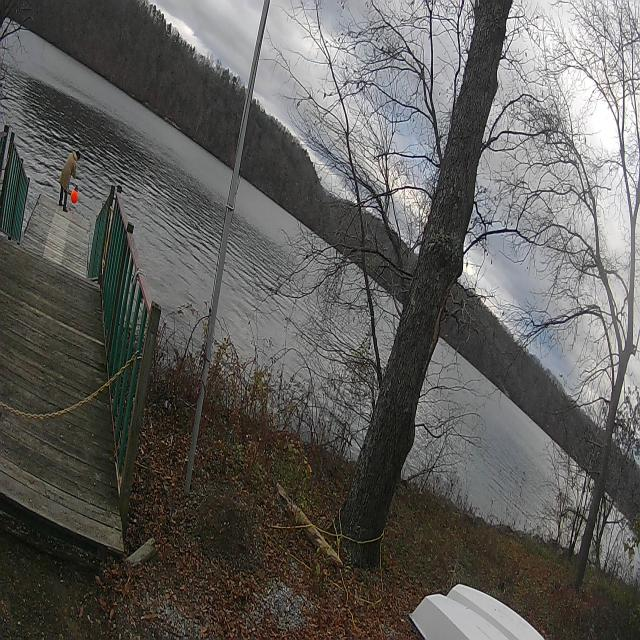Buoy: (69, 180, 81, 208)
